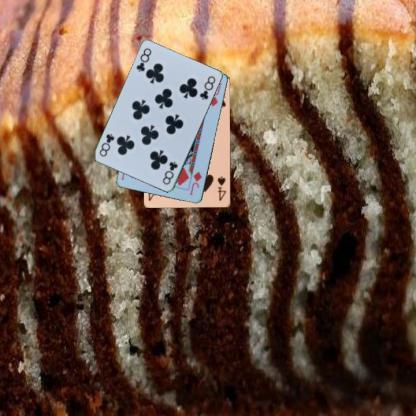4s: (215, 174, 228, 202)
8c: (160, 159, 179, 186), (134, 46, 152, 73)
Jd: (188, 169, 204, 196)
